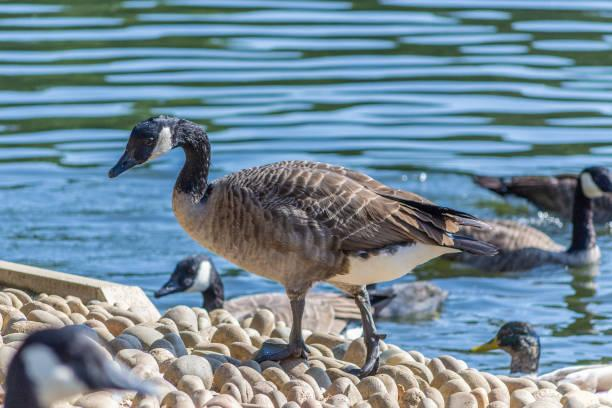Canadian-Goose: (105, 114, 496, 360), (475, 160, 612, 274)
